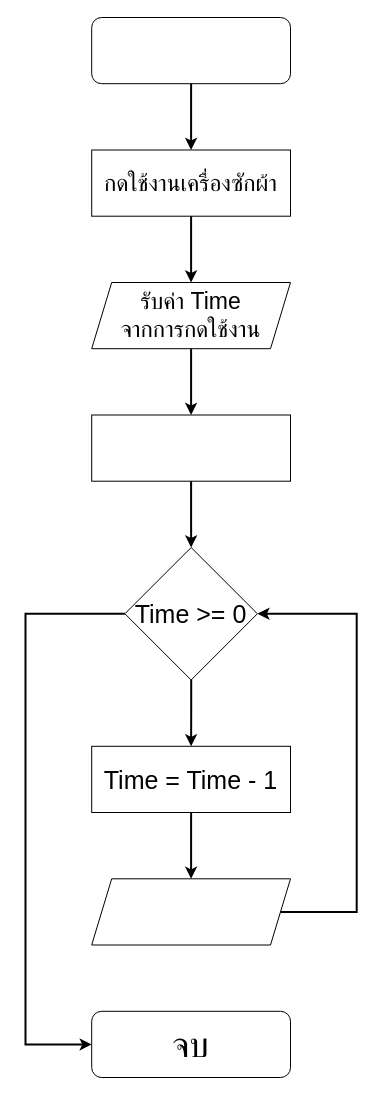
Image size: 383x1095. Some labels were removed from this diagram. Each missing label, with the box of its shape:
เครื่องซักผ้าไม่รับคำสั่งเพิ่มจนทำงานเสร็จ: (91, 414, 290, 481)
เริ่มต้น: (91, 16, 290, 84)
แสดงค่า Time: (91, 878, 290, 945)
